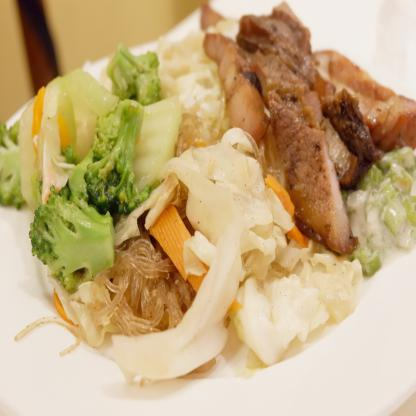Carne: (250, 14, 336, 230)
